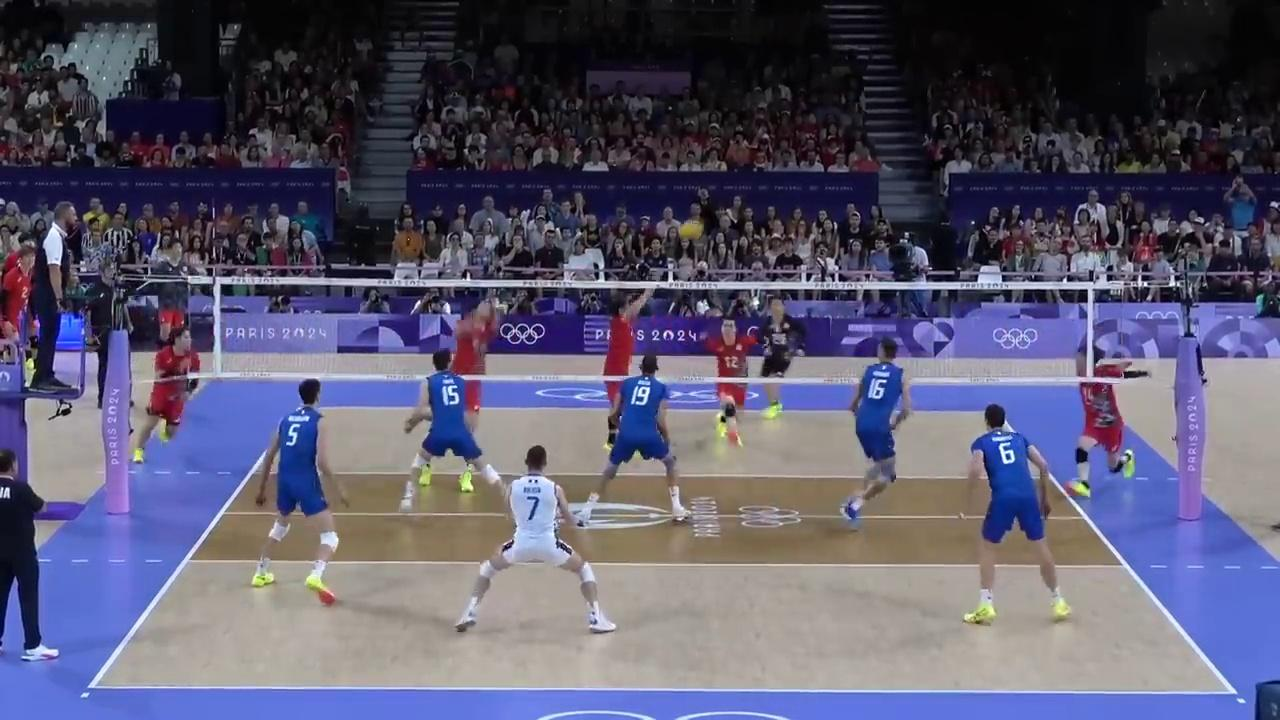ball: (678, 218, 703, 239)
